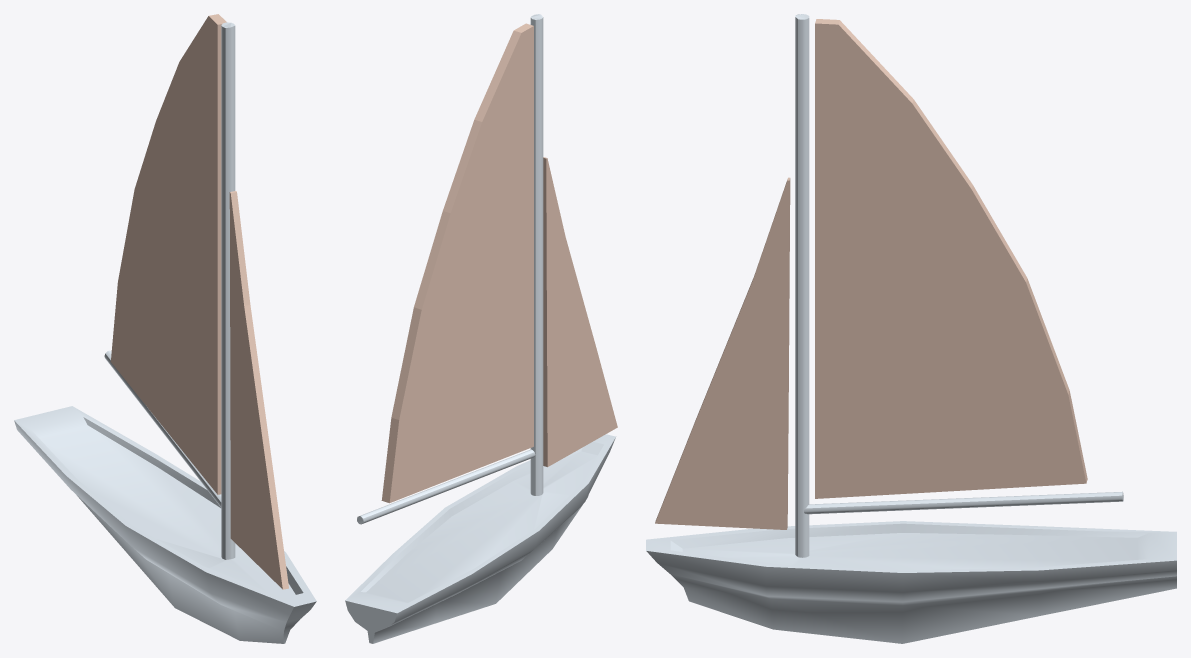
Rendered from Sailboat.FBX.
3 views of the same model, side by side, from view 1: azimuth 30°, elevation 25°; view 2: azimuth 150°, elevation 25°; view 3: azimuth 270°, elevation 25° (orthographic). The views are drawn at different scales.
Visible parts, largest first — view 1: Sailboat; view 2: Sailboat; view 3: Sailboat.
Boxes of the visible parts, box(x1,y1,x2,y2) form: Sailboat: box(14, 14, 316, 643); Sailboat: box(345, 14, 617, 643); Sailboat: box(646, 14, 1176, 643).
Size of the model in its own units: 0.762 by 4.27 by 3.28.
